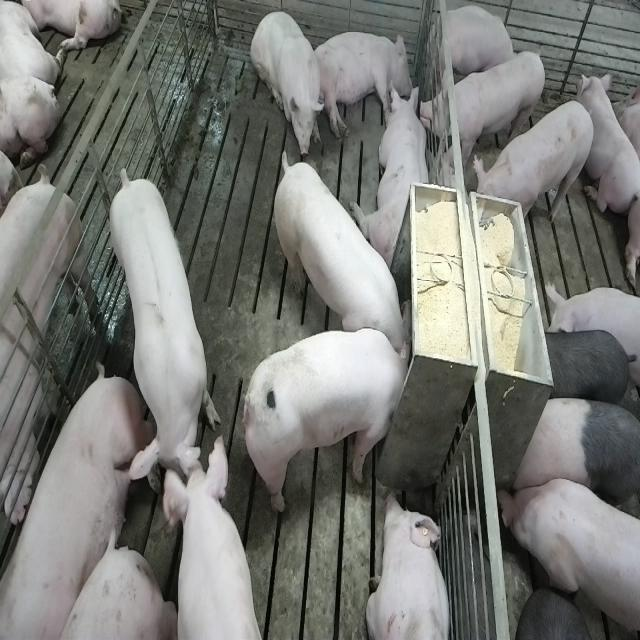Feeding: (247, 327, 420, 516), (270, 142, 409, 356)
Lateral_lying: (3, 366, 164, 640), (310, 29, 413, 140)
Sitting: (250, 7, 325, 159)
Standing: (108, 159, 220, 492), (0, 175, 98, 534), (499, 475, 638, 640), (157, 437, 261, 640), (472, 98, 598, 230), (510, 395, 638, 522), (421, 46, 548, 164), (529, 324, 638, 416)
Sternal_lying: (356, 80, 432, 266), (366, 490, 453, 640), (579, 72, 638, 223), (433, 5, 517, 89)
